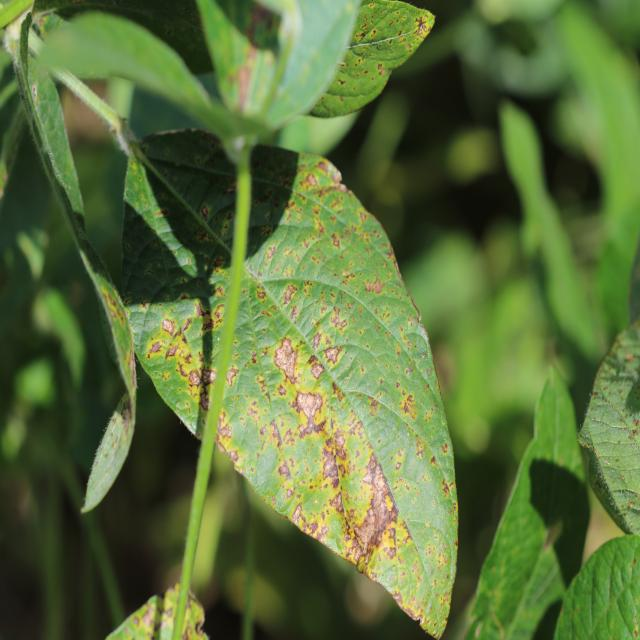Bacterial_Blight: (122, 154, 165, 230), (284, 156, 341, 193), (245, 2, 281, 51), (355, 9, 396, 45), (233, 52, 256, 114), (353, 502, 382, 551), (294, 390, 324, 432), (420, 606, 447, 638), (604, 377, 630, 407), (321, 446, 339, 480), (363, 451, 381, 482), (398, 389, 415, 421), (323, 345, 342, 366), (217, 419, 233, 442), (282, 284, 299, 305), (366, 277, 384, 295), (278, 459, 292, 481), (329, 491, 343, 512), (121, 395, 132, 421), (291, 503, 304, 524), (309, 362, 325, 379), (414, 15, 428, 34), (212, 304, 225, 324), (226, 367, 239, 387), (161, 318, 176, 335), (414, 438, 426, 459), (188, 369, 201, 387), (148, 340, 163, 355), (165, 344, 179, 359), (441, 478, 451, 496), (194, 301, 205, 317), (384, 495, 394, 512), (330, 233, 341, 248), (196, 622, 207, 637), (474, 623, 483, 638), (256, 288, 266, 301), (377, 63, 387, 76), (277, 384, 287, 397), (201, 206, 209, 220), (356, 31, 366, 40), (625, 352, 634, 362), (31, 84, 37, 99), (595, 479, 602, 491), (601, 459, 612, 466), (337, 78, 346, 86), (361, 22, 369, 31), (627, 500, 635, 509), (338, 60, 347, 68), (215, 334, 220, 347), (395, 461, 401, 471), (635, 428, 640, 438), (575, 607, 580, 616), (636, 418, 640, 427), (637, 556, 640, 565), (637, 629, 640, 638)
Soybean: (217, 145, 458, 637), (120, 130, 239, 438)
